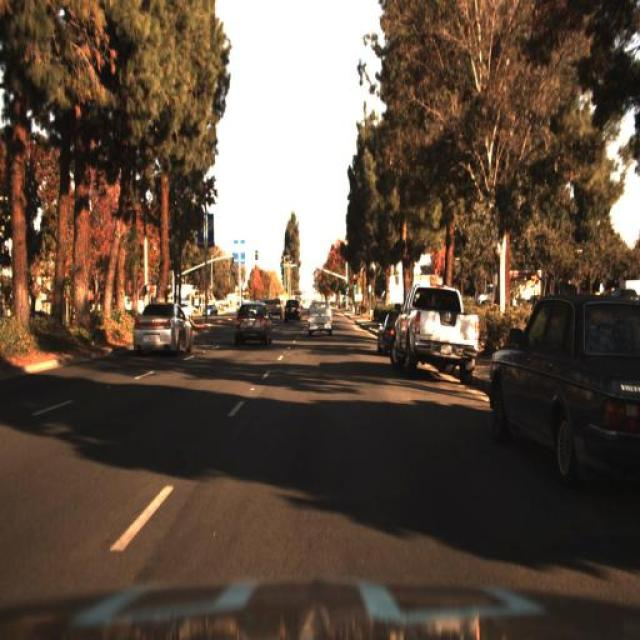car: (488, 290, 638, 495), (388, 278, 482, 376), (129, 300, 196, 360), (231, 296, 274, 349), (375, 306, 401, 358), (306, 300, 335, 336), (281, 295, 305, 327), (266, 292, 286, 323)
